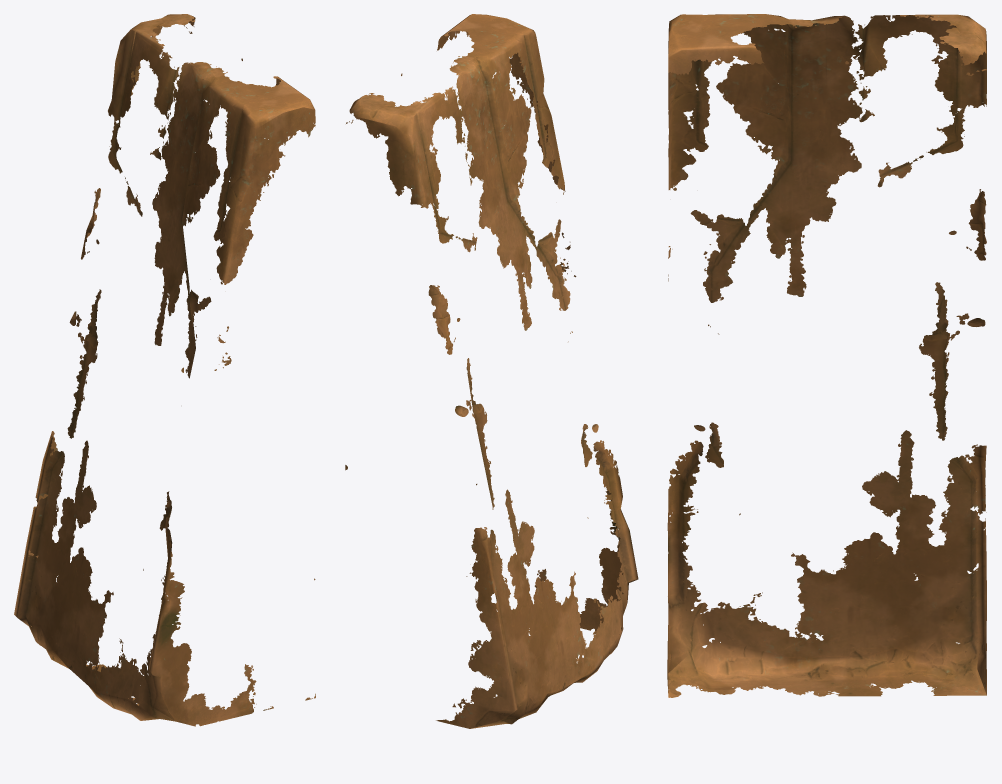
File: WallTallShort01.fbx
3 views of the same model, side by side, from view 1: azimuth 30°, elevation 25°; view 2: azimuth 150°, elevation 25°; view 3: azimuth 270°, elevation 25° (orthographic). The views are drawn at different scales.
Visible parts, largest first — view 1: WallTallShort01_LOD00; view 2: WallTallShort01_LOD00; view 3: WallTallShort01_LOD00.
Part boxes in pixels (<box>): WallTallShort01_LOD00: <box>14,14,315,726</box>; WallTallShort01_LOD00: <box>345,14,638,728</box>; WallTallShort01_LOD00: <box>667,14,986,697</box>.
Size of what is drawn, in the model's own units: 300 by 1072 by 402.
